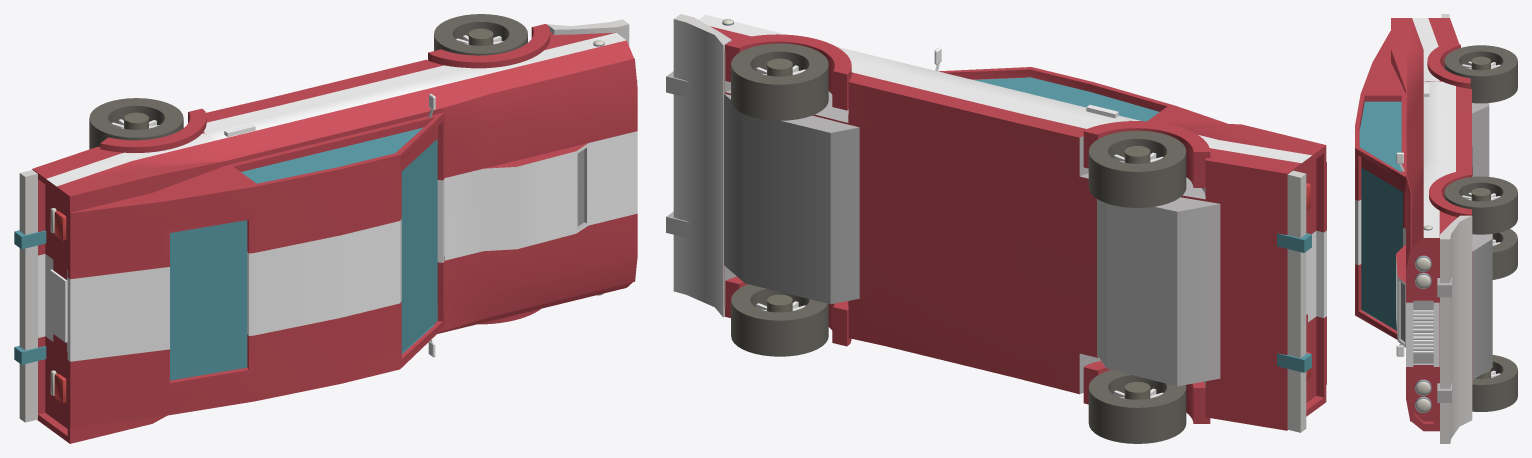
The picture shows the model from 3 angles, left to right: view 1: azimuth 30°, elevation 25°; view 2: azimuth 150°, elevation 25°; view 3: azimuth 270°, elevation 25°; orthographic projection. The views are drawn at different scales.
Visible parts, largest first — view 1: Hull, WheelBL, WheelFL; view 2: Hull, WheelBL, WheelFL, WheelBR, WheelFR; view 3: Hull, WheelBL, WheelFL, WheelFR, WheelBR, WheelFL2, WheelBL2.
Part boxes in pixels (x1,y1,x2,y2): Hull: [14, 19, 637, 443]; WheelBL: [89, 98, 183, 149]; WheelFL: [434, 14, 527, 55]; Hull: [666, 14, 1326, 432]; WheelBL: [1088, 130, 1186, 207]; WheelFL: [731, 43, 828, 120]; WheelBR: [1088, 370, 1186, 443]; WheelFR: [731, 284, 828, 356]; Hull: [1355, 14, 1492, 443]; WheelBL: [1444, 45, 1517, 103]; WheelFL: [1444, 176, 1517, 234]; WheelFR: [1472, 355, 1517, 411]; WheelBR: [1492, 229, 1517, 279]; WheelFL2: [1471, 188, 1490, 201]; WheelBL2: [1471, 56, 1490, 70].
Size of the model in its own units: 4.38 by 1.8 by 1.29.
